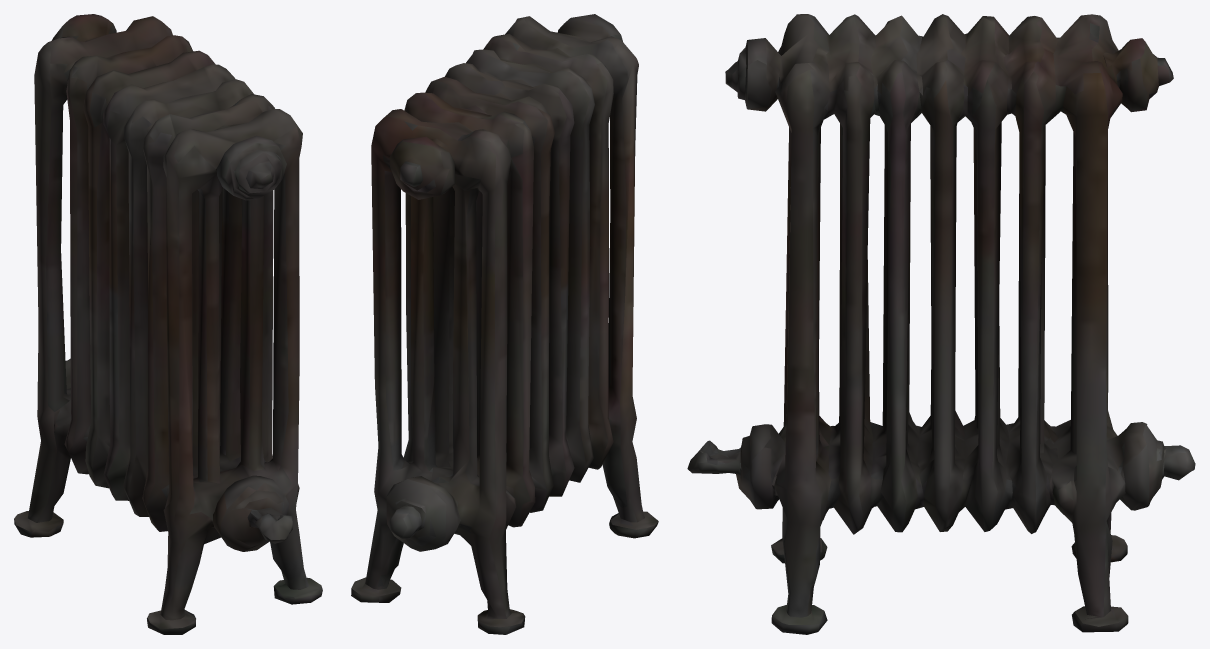
File: old-iron-radiator-v002.glb
3 renders of one model, left to right at view 1: azimuth 30°, elevation 25°; view 2: azimuth 150°, elevation 25°; view 3: azimuth 270°, elevation 25°, orthographic. The views are drawn at different scales.
Visible parts, largest first — view 1: old-iron-radiator; view 2: old-iron-radiator; view 3: old-iron-radiator.
Part boxes in pixels (left/top/right/bottom): old-iron-radiator: left=14, top=14, right=322, bottom=634; old-iron-radiator: left=351, top=14, right=658, bottom=634; old-iron-radiator: left=687, top=14, right=1195, bottom=634.
Size of the model in its own units: 0.3025 by 0.8401 by 0.7005.
Materials: 1 (1 with a texture image).
